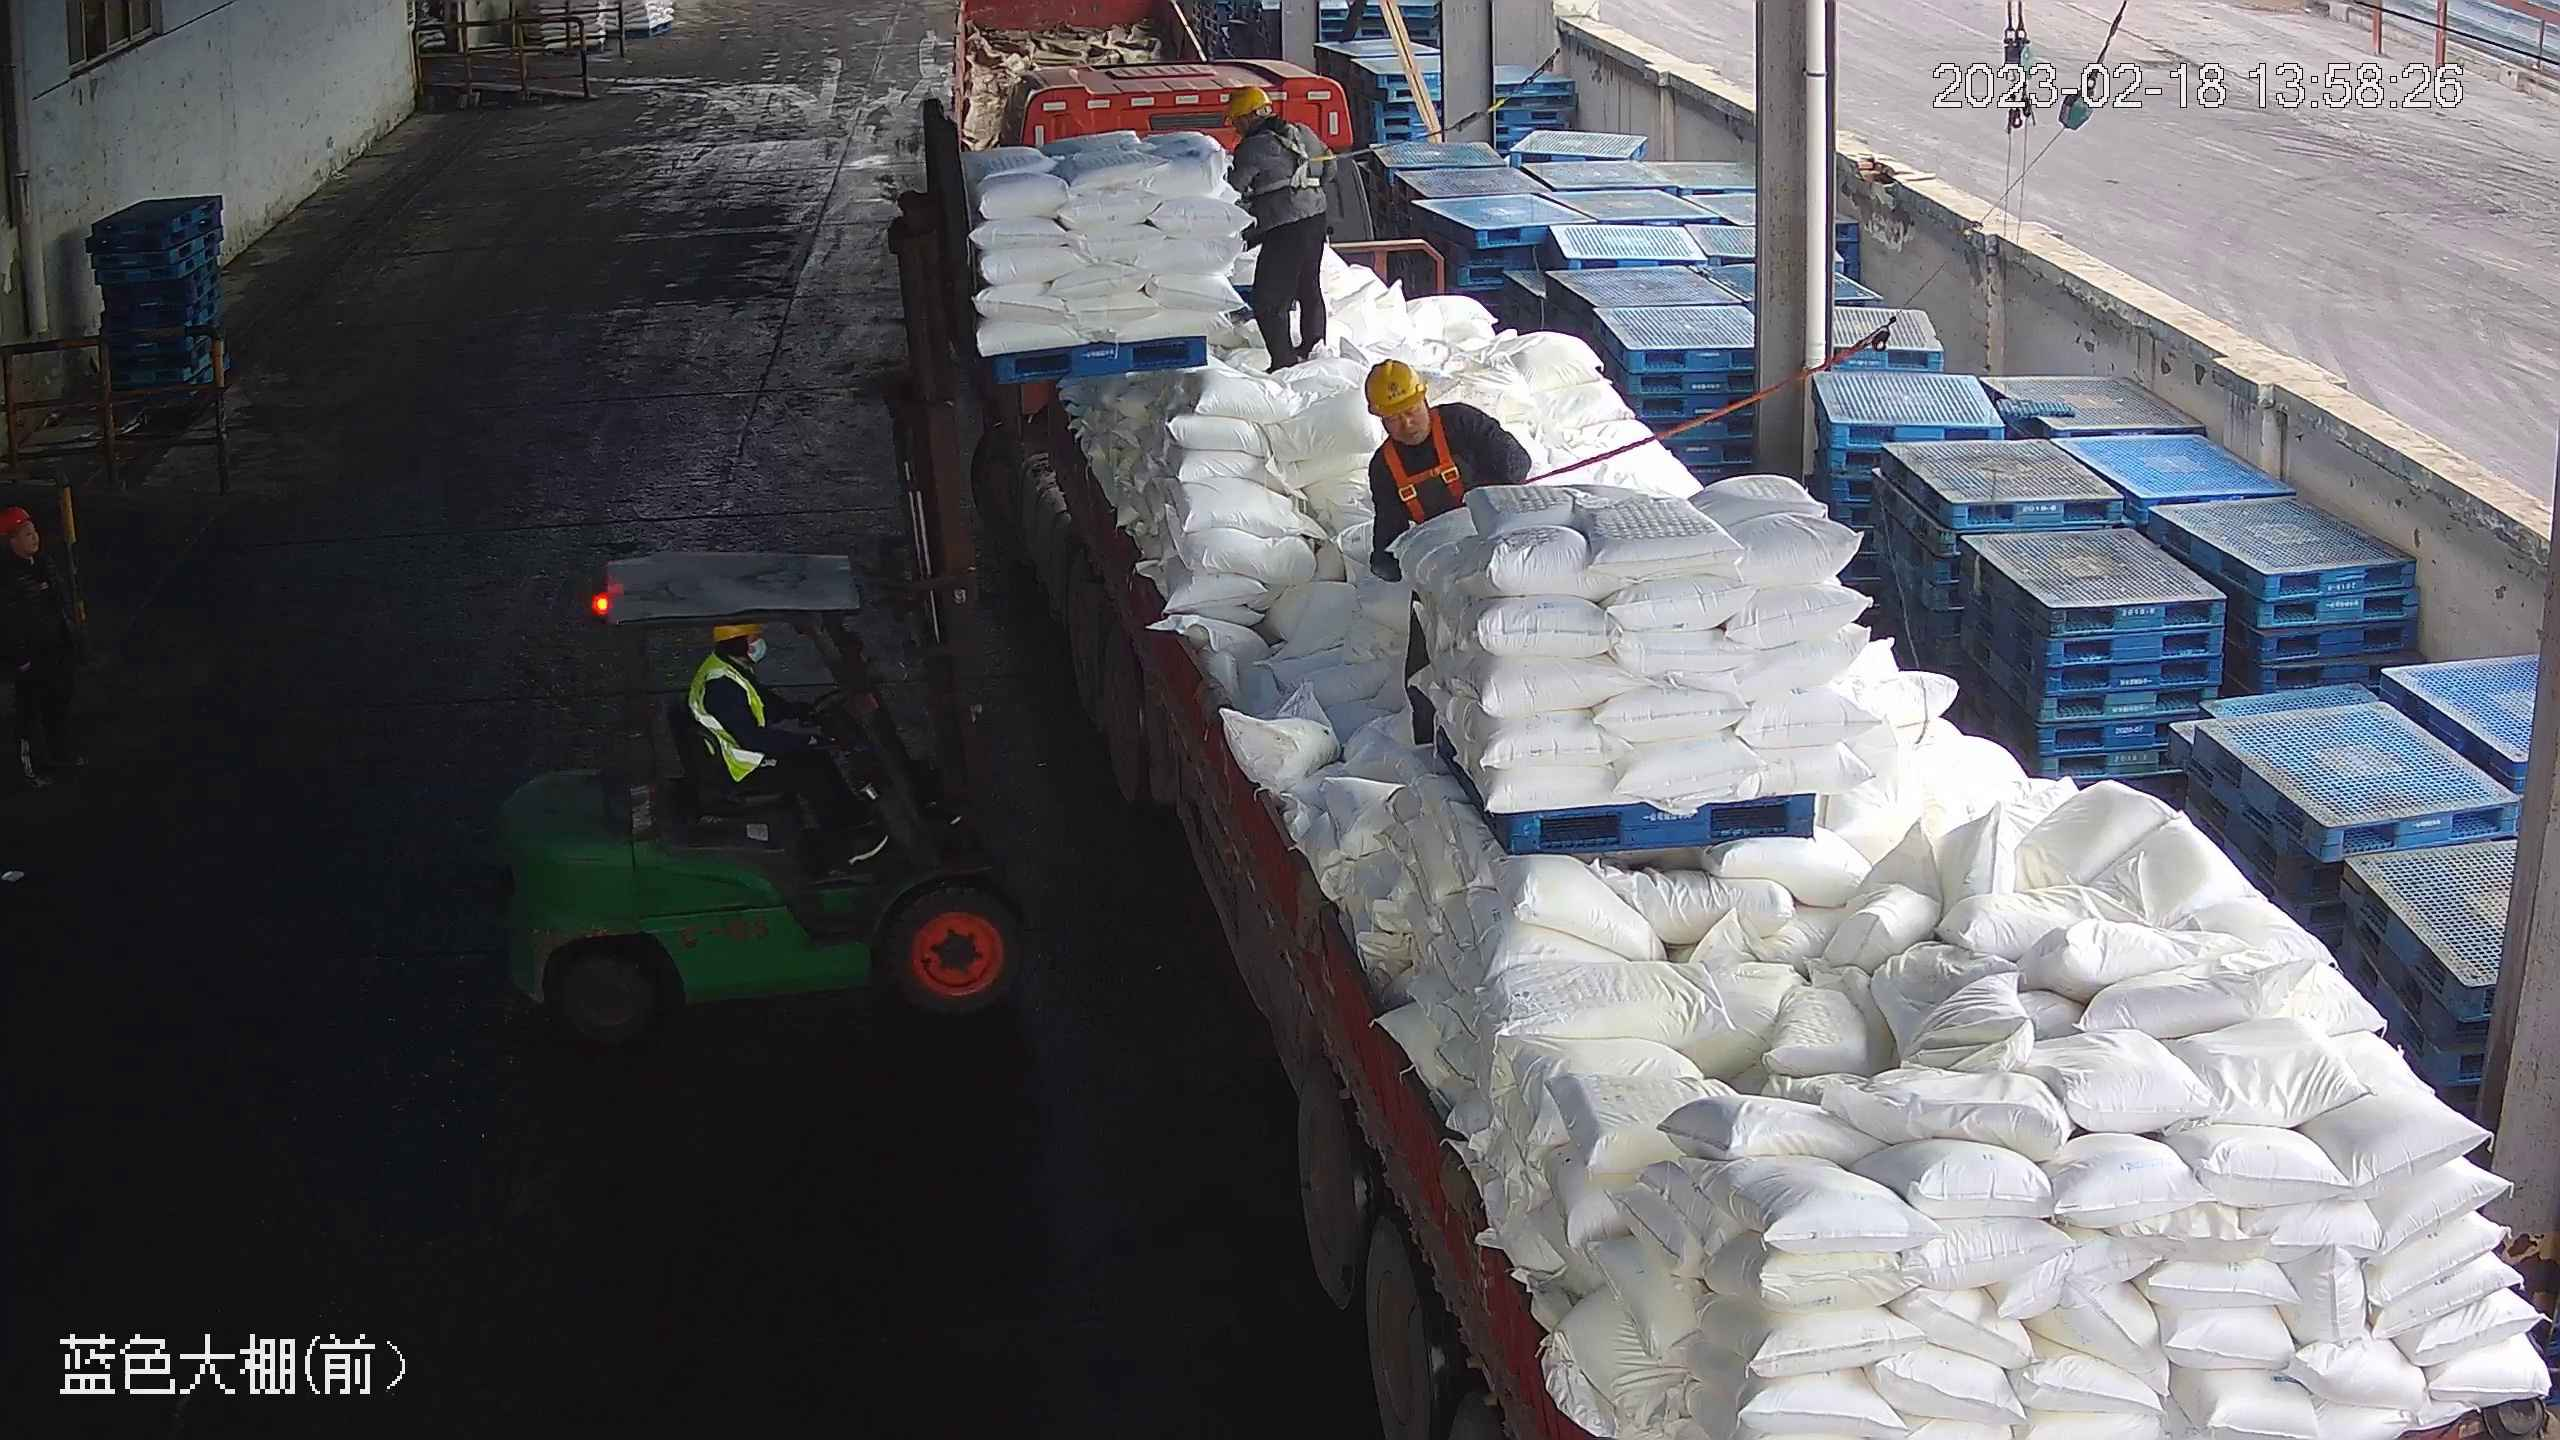belt: (1385, 411, 1466, 525), (1260, 123, 1343, 194)
head: (1362, 355, 1493, 470), (1224, 86, 1316, 169), (691, 622, 772, 707), (1, 507, 70, 604)
helmet: (1361, 356, 1431, 416), (1222, 83, 1269, 119), (1, 506, 31, 535)
people: (690, 617, 883, 858), (1223, 84, 1331, 373), (1, 505, 80, 809)
truck: (943, 58, 2554, 1440)
